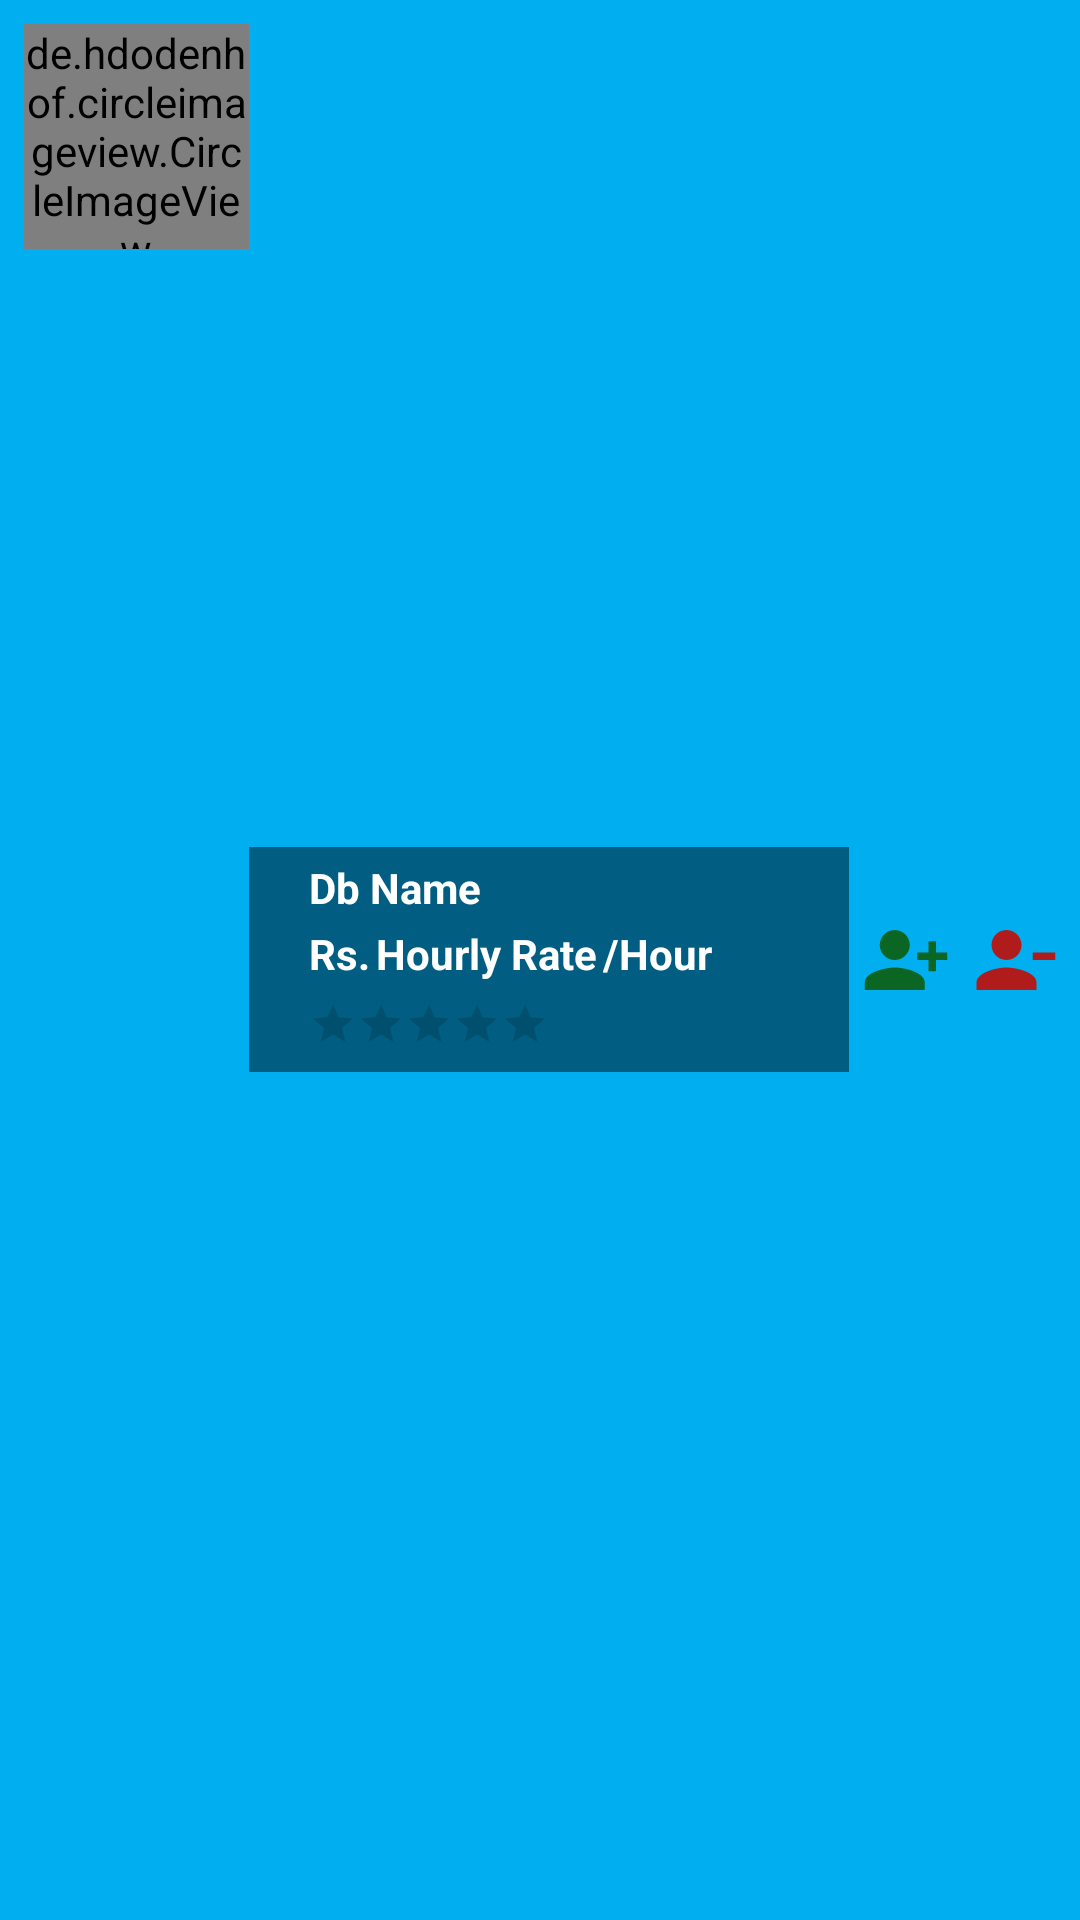

Screen size 1080w x 1920h. Icon name, then its center in pixels as [x,y]:
person remove: [1016,960]
request: [906,960]
